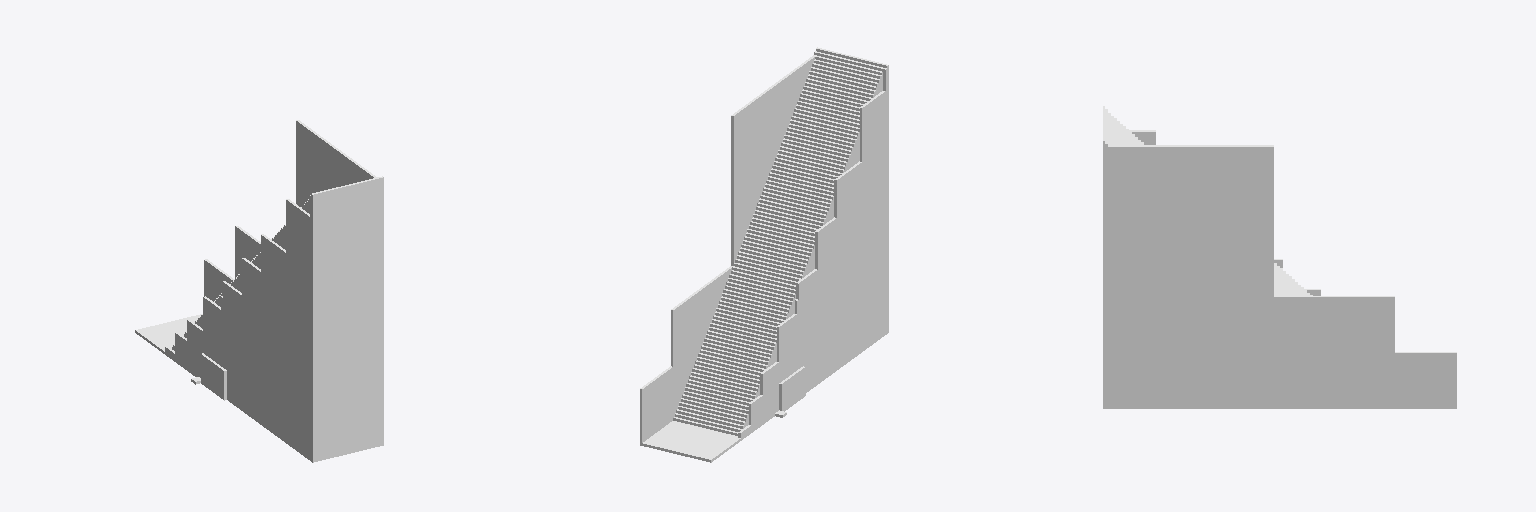
Rendered from Road6.obj.
The picture shows the model from 3 angles: view 1: azimuth 30°, elevation 25°; view 2: azimuth 150°, elevation 25°; view 3: azimuth 270°, elevation 25°; orthographic projection.
Visible parts, largest first — view 1: object 1; view 2: object 1; view 3: object 1.
Part boxes in pixels (left/top/right/bottom): object 1: left=135, top=120, right=383, bottom=462; object 1: left=640, top=47, right=888, bottom=462; object 1: left=1103, top=106, right=1456, bottom=408.
Size of the model in its own units: 3.1 by 10 by 12.